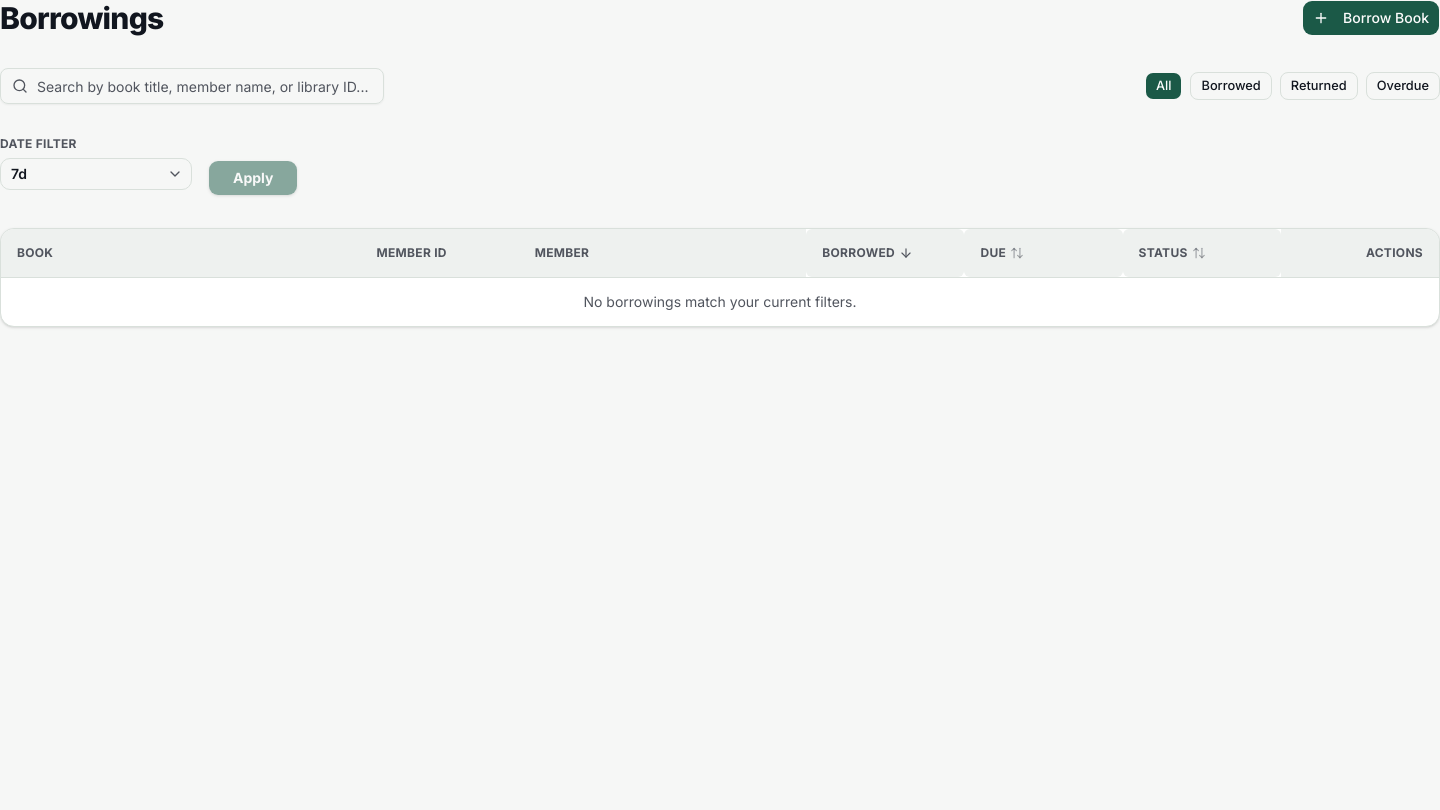
Test case: BorrowingsPage › opens BorrowForm dialog when Borrow Book is clicked
Click the button "Borrow Book": (1371, 18) x1=1302 y1=0 x2=1439 y2=36
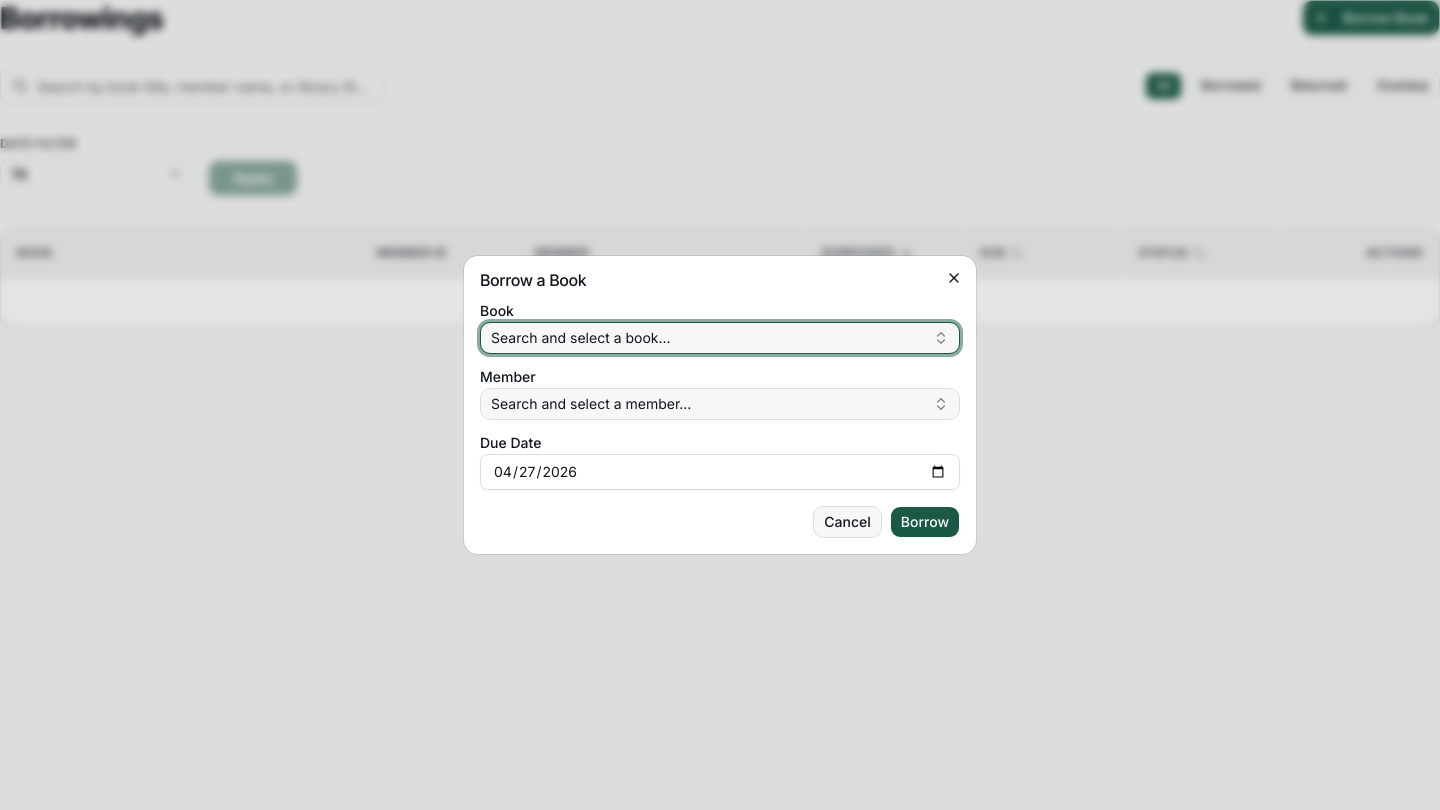
Now the heading "Borrow a Book" is shown, box x1=480 y1=270 x2=586 y2=290
